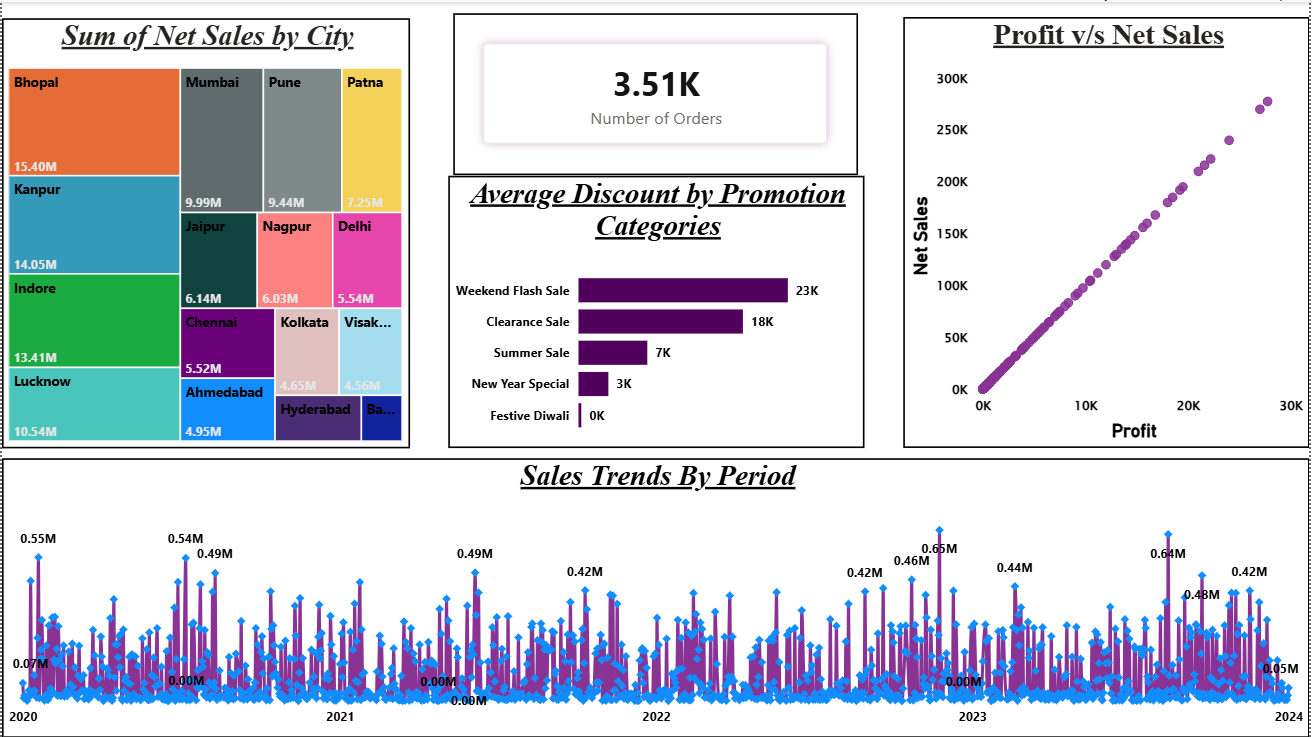

The dashboard page shown, as its layout file describes it:
{"tool":"powerbi","page":{"name":"Overview","canvas":[1280,720],"ordinal":0},"visuals":[{"type":"lineChart","title":"Sales Trends By Period","fields":{"Category":["Fact Table.Date (dd/mm/yyyy).Variation.Date Hierarchy.Year"],"Y":["Sum(Fact Table.Net Sales  )"]},"box":[0,446.3,1280.3,273.9],"z":0},{"type":"scatterChart","title":"Profit v/s Net Sales  ","fields":{"X":["Fact Table.Profit"],"Y":["Fact Table.Net Sales  "]},"box":[881.7,14.7,398.6,421.9],"z":1000},{"type":"barChart","title":"Average Discount  by Promotion Categories","fields":{"Category":["Dim Promotion.Promotion Name"],"Y":["Avg(Fact Table.Discount )"]},"box":[436.6,170,407.2,266.6],"z":2000},{"type":"treemap","fields":{"Details":["Dim Customers.City"],"Values":["Sum(Fact Table.Net Sales  )"]},"box":[0,15.7,399,421],"z":3000},{"type":"cardVisual","fields":{"Data":["Count(Fact Table.Order ID)"]},"box":[441.9,11,396.3,158.2],"z":4000}]}

Visuals, with their boxes in screenshot pixels (x1, y1, x2, y2), scaled from the page's 1280x720 canvas onto the 1312x737 screenshot:
"Sales Trends By Period" lineChart: crop(0, 457, 1311, 736)
"Profit v/s Net Sales  " scatterChart: crop(904, 15, 1311, 447)
"Average Discount  by Promotion Categories" barChart: crop(448, 174, 865, 447)
treemap - Dim Customers.City x Sum(Fact Table.Net Sales  ): crop(0, 16, 409, 447)
cardVisual - Count(Fact Table.Order ID): crop(453, 11, 859, 173)
